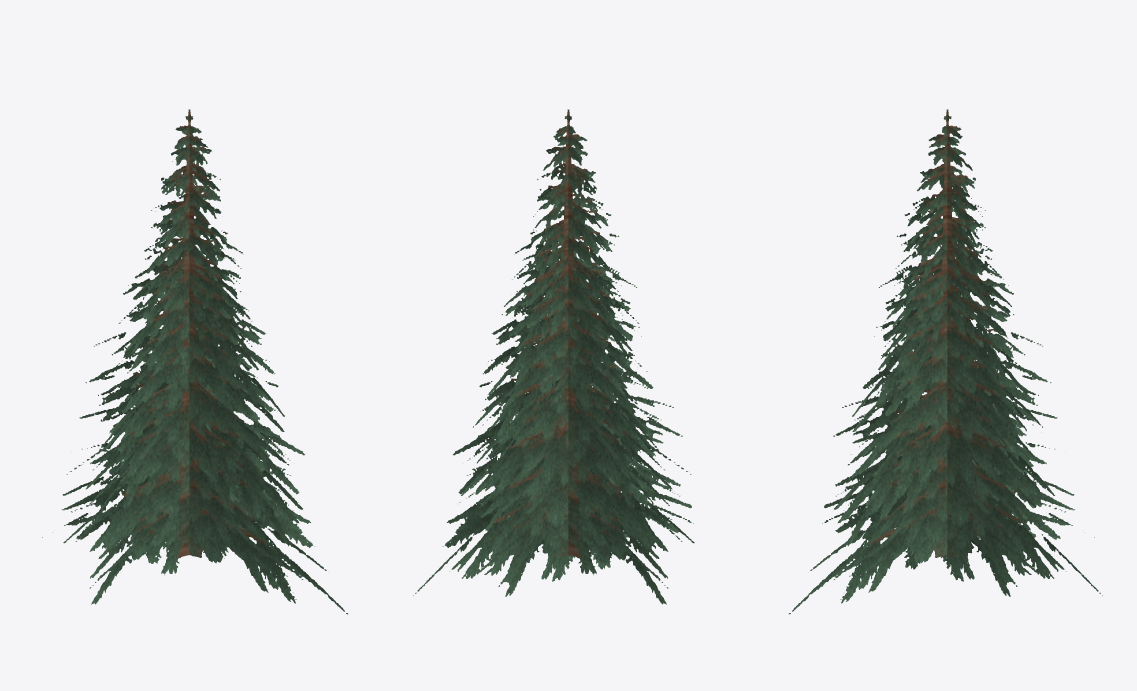
The model's file is spruce-far.glb.
3 views of the same model, side by side, from view 1: azimuth 30°, elevation 25°; view 2: azimuth 150°, elevation 25°; view 3: azimuth 270°, elevation 25° (orthographic).
Visible parts, largest first — view 1: spruce-far; view 2: spruce-far; view 3: spruce-far.
Boxes of the visible parts, x1,y1,x2,y2 form: spruce-far: [42, 109, 347, 614]; spruce-far: [413, 109, 694, 604]; spruce-far: [789, 109, 1102, 614].
Bounding box in the file's own units: 6.41 × 8.61 × 5.55.
1 material, 1 textured.
